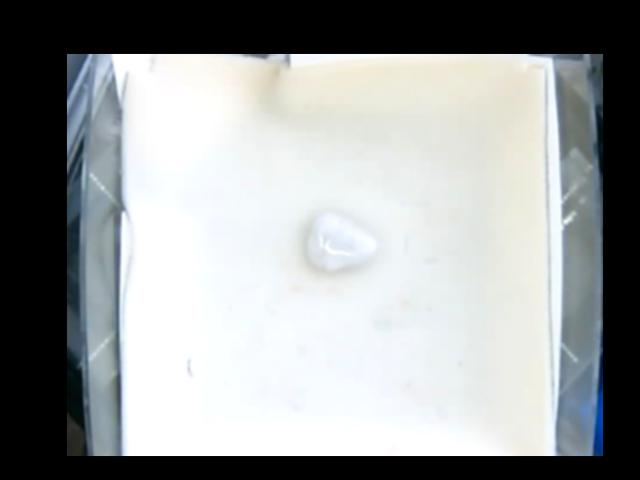Pebble: (306, 211, 374, 273)
